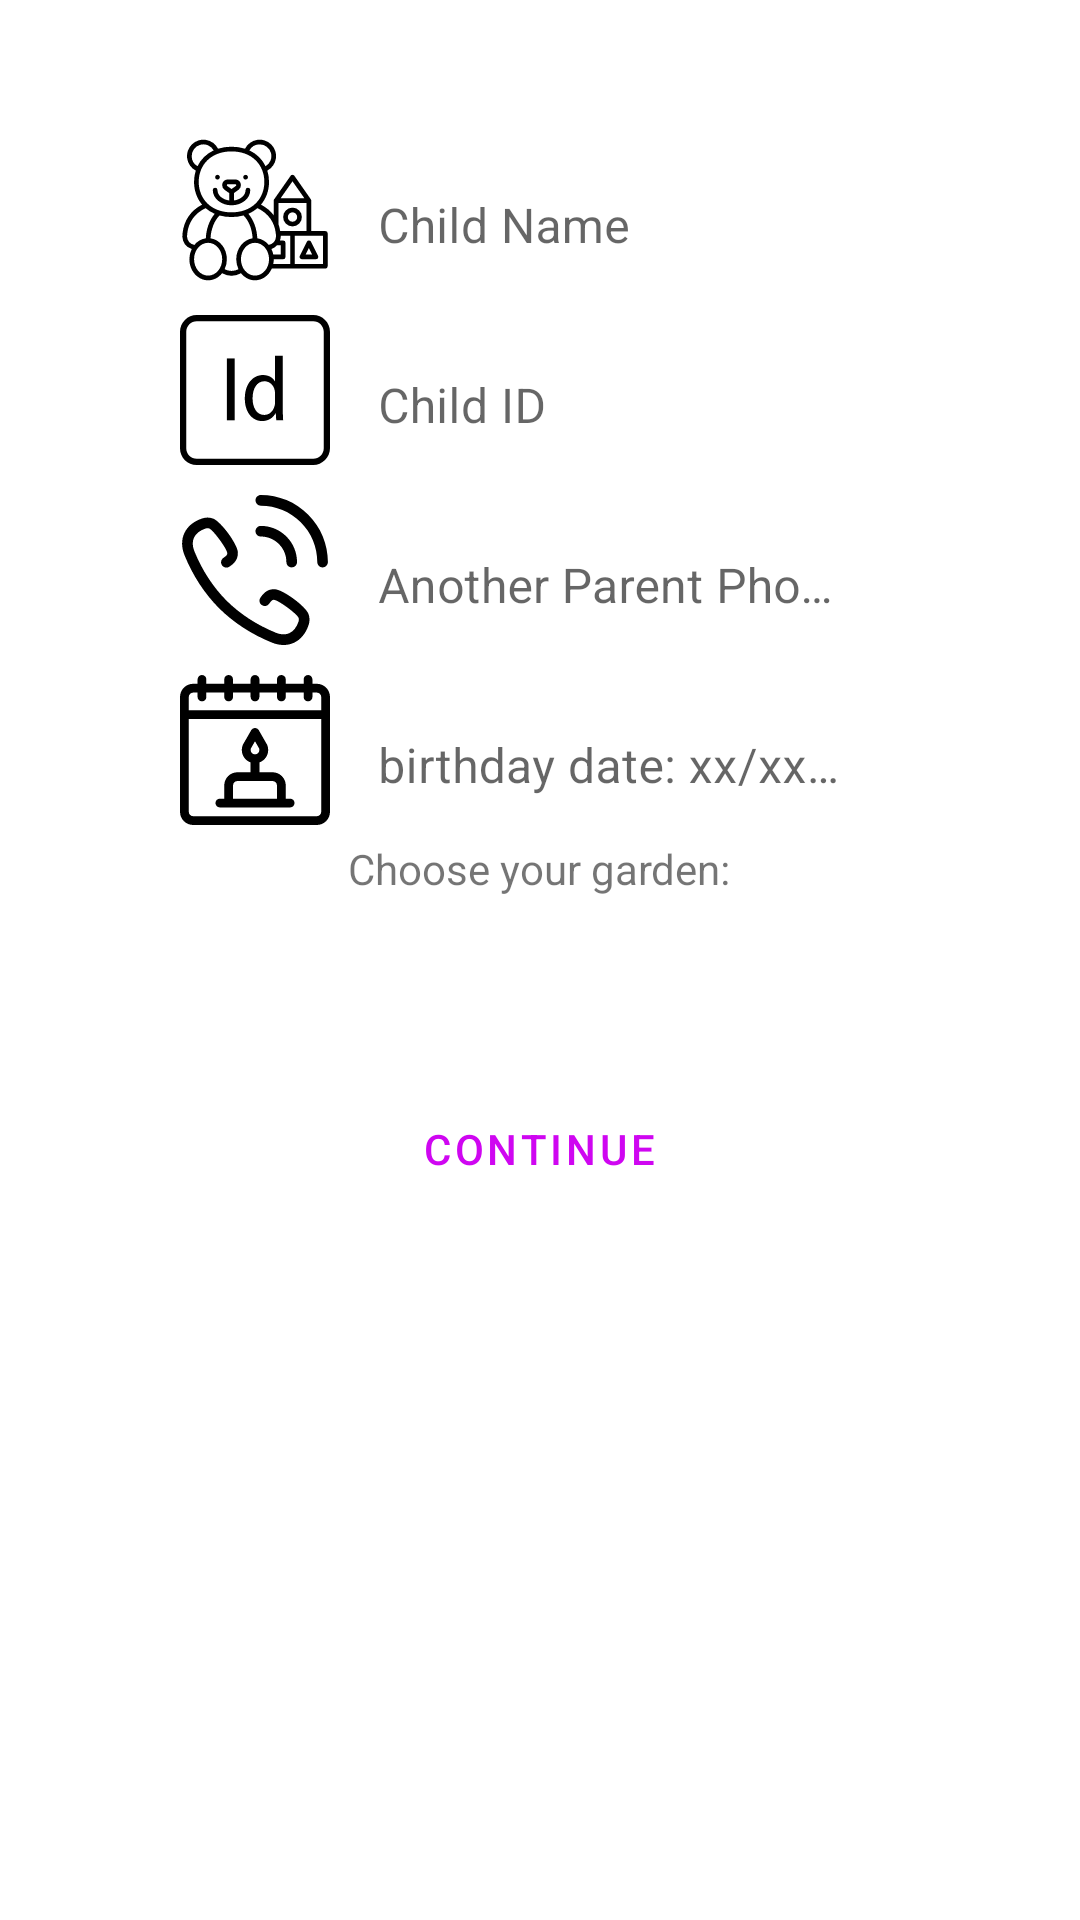

Icons on this 1080px×1920px Android screen, each with the point to tap as point (x, y):
calendar: point (255, 750)
phone call: point (255, 570)
toys: point (255, 210)
